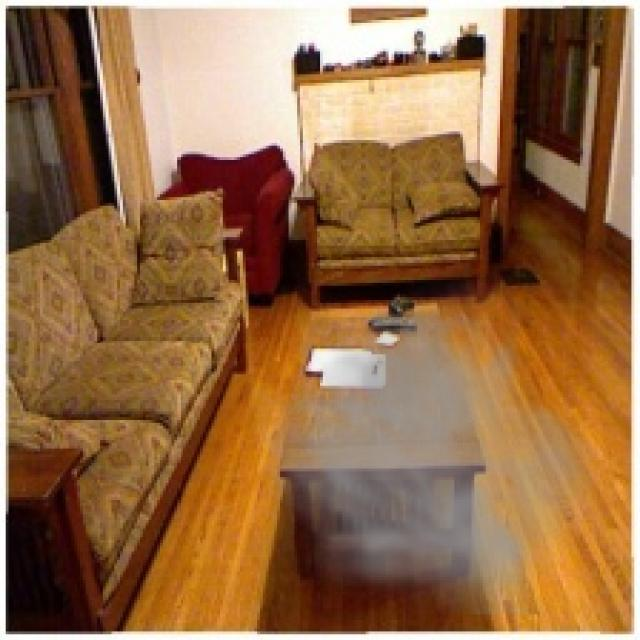Smoke: (248, 268, 614, 614)
